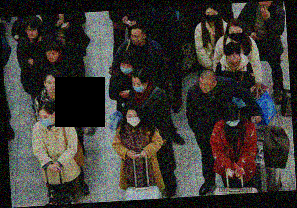with_mask: (126, 112, 142, 128), (118, 61, 134, 75), (38, 113, 53, 127), (228, 28, 244, 41), (132, 79, 146, 93), (205, 10, 219, 24), (226, 118, 241, 127)
without_mask: (44, 78, 60, 94), (46, 49, 61, 63), (199, 79, 213, 94), (26, 26, 39, 40), (130, 31, 143, 45), (227, 53, 240, 64)
